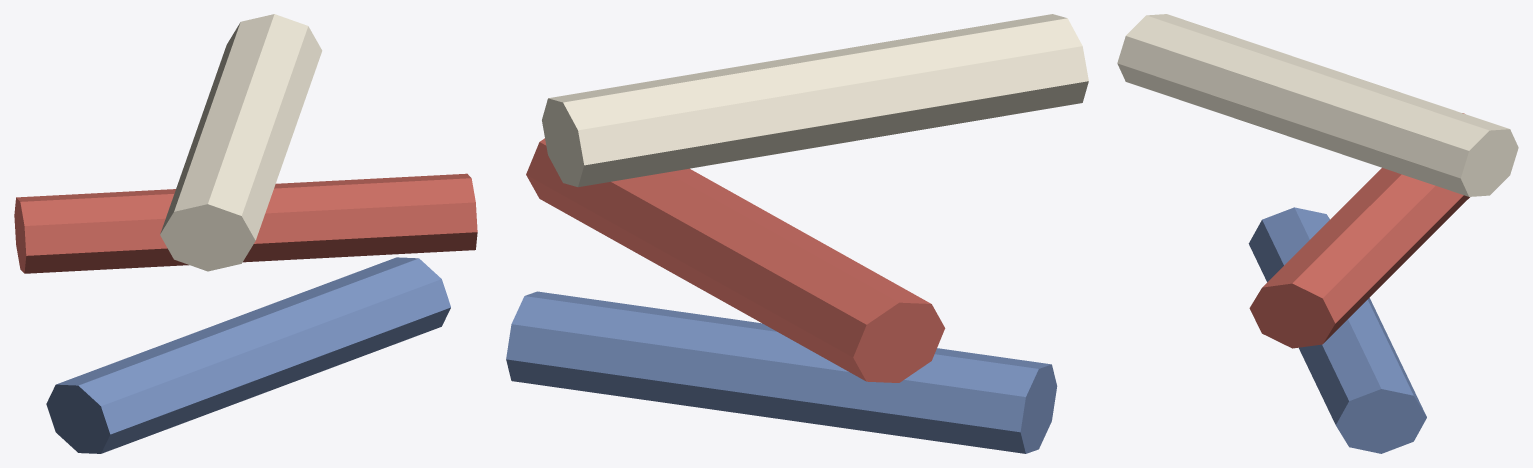
Rendered from prop-yarn-skein-stack.fbx.
3 views of the same model, side by side, from view 1: azimuth 30°, elevation 25°; view 2: azimuth 150°, elevation 25°; view 3: azimuth 270°, elevation 25° (orthographic). The views are drawn at different scales.
Visible parts, largest first — view 1: prop-yarn-skein-stack; view 2: prop-yarn-skein-stack; view 3: prop-yarn-skein-stack.
Boxes of the visible parts, x1=… form: prop-yarn-skein-stack: x1=14, y1=14, x2=477, y2=453; prop-yarn-skein-stack: x1=506, y1=14, x2=1088, y2=453; prop-yarn-skein-stack: x1=1117, y1=14, x2=1518, y2=453.
Bounding box in the file's own units: 23.29 × 15.6 × 20.14.
